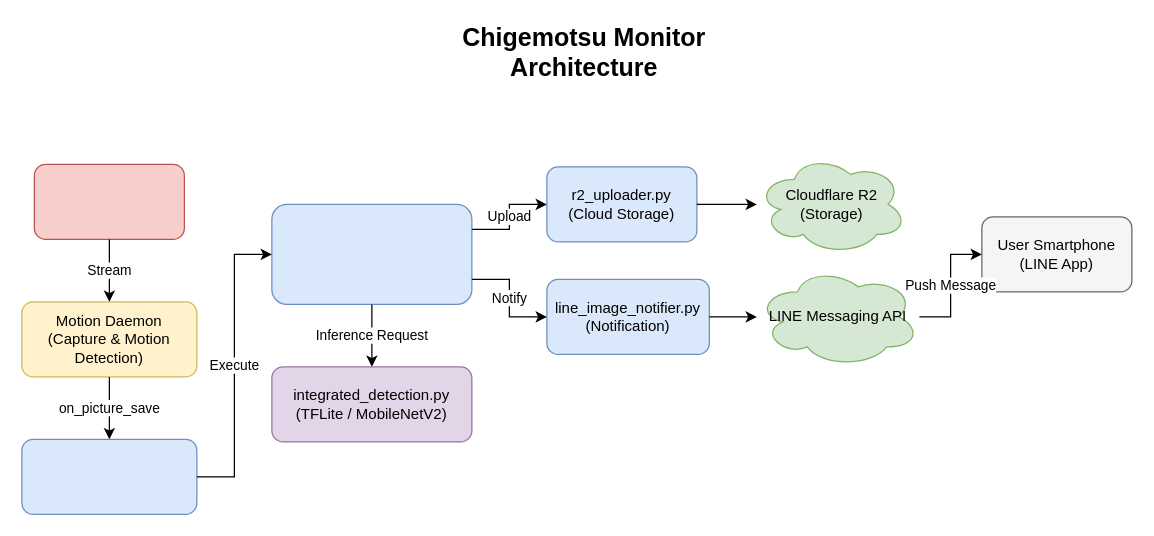
The diagram is 1154 pixels wide and 536 high, and some of its shapes have lost their labels. The shapes that lost their labels are listed below. From the top down, each one's centre as x and y in pixels, then its label:
At pixel 108 201: "Camera / Video Device".
At pixel 371 253: "chigemotsu_pipeline.py (Main Orchestrator)".
At pixel 109 476: "chigemotsu_detect.sh (Event Trigger)".
